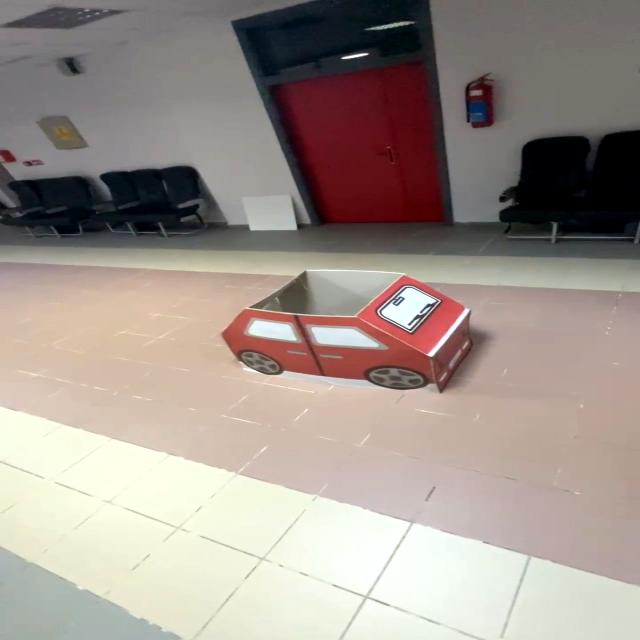red_car: (176, 258, 522, 439)
